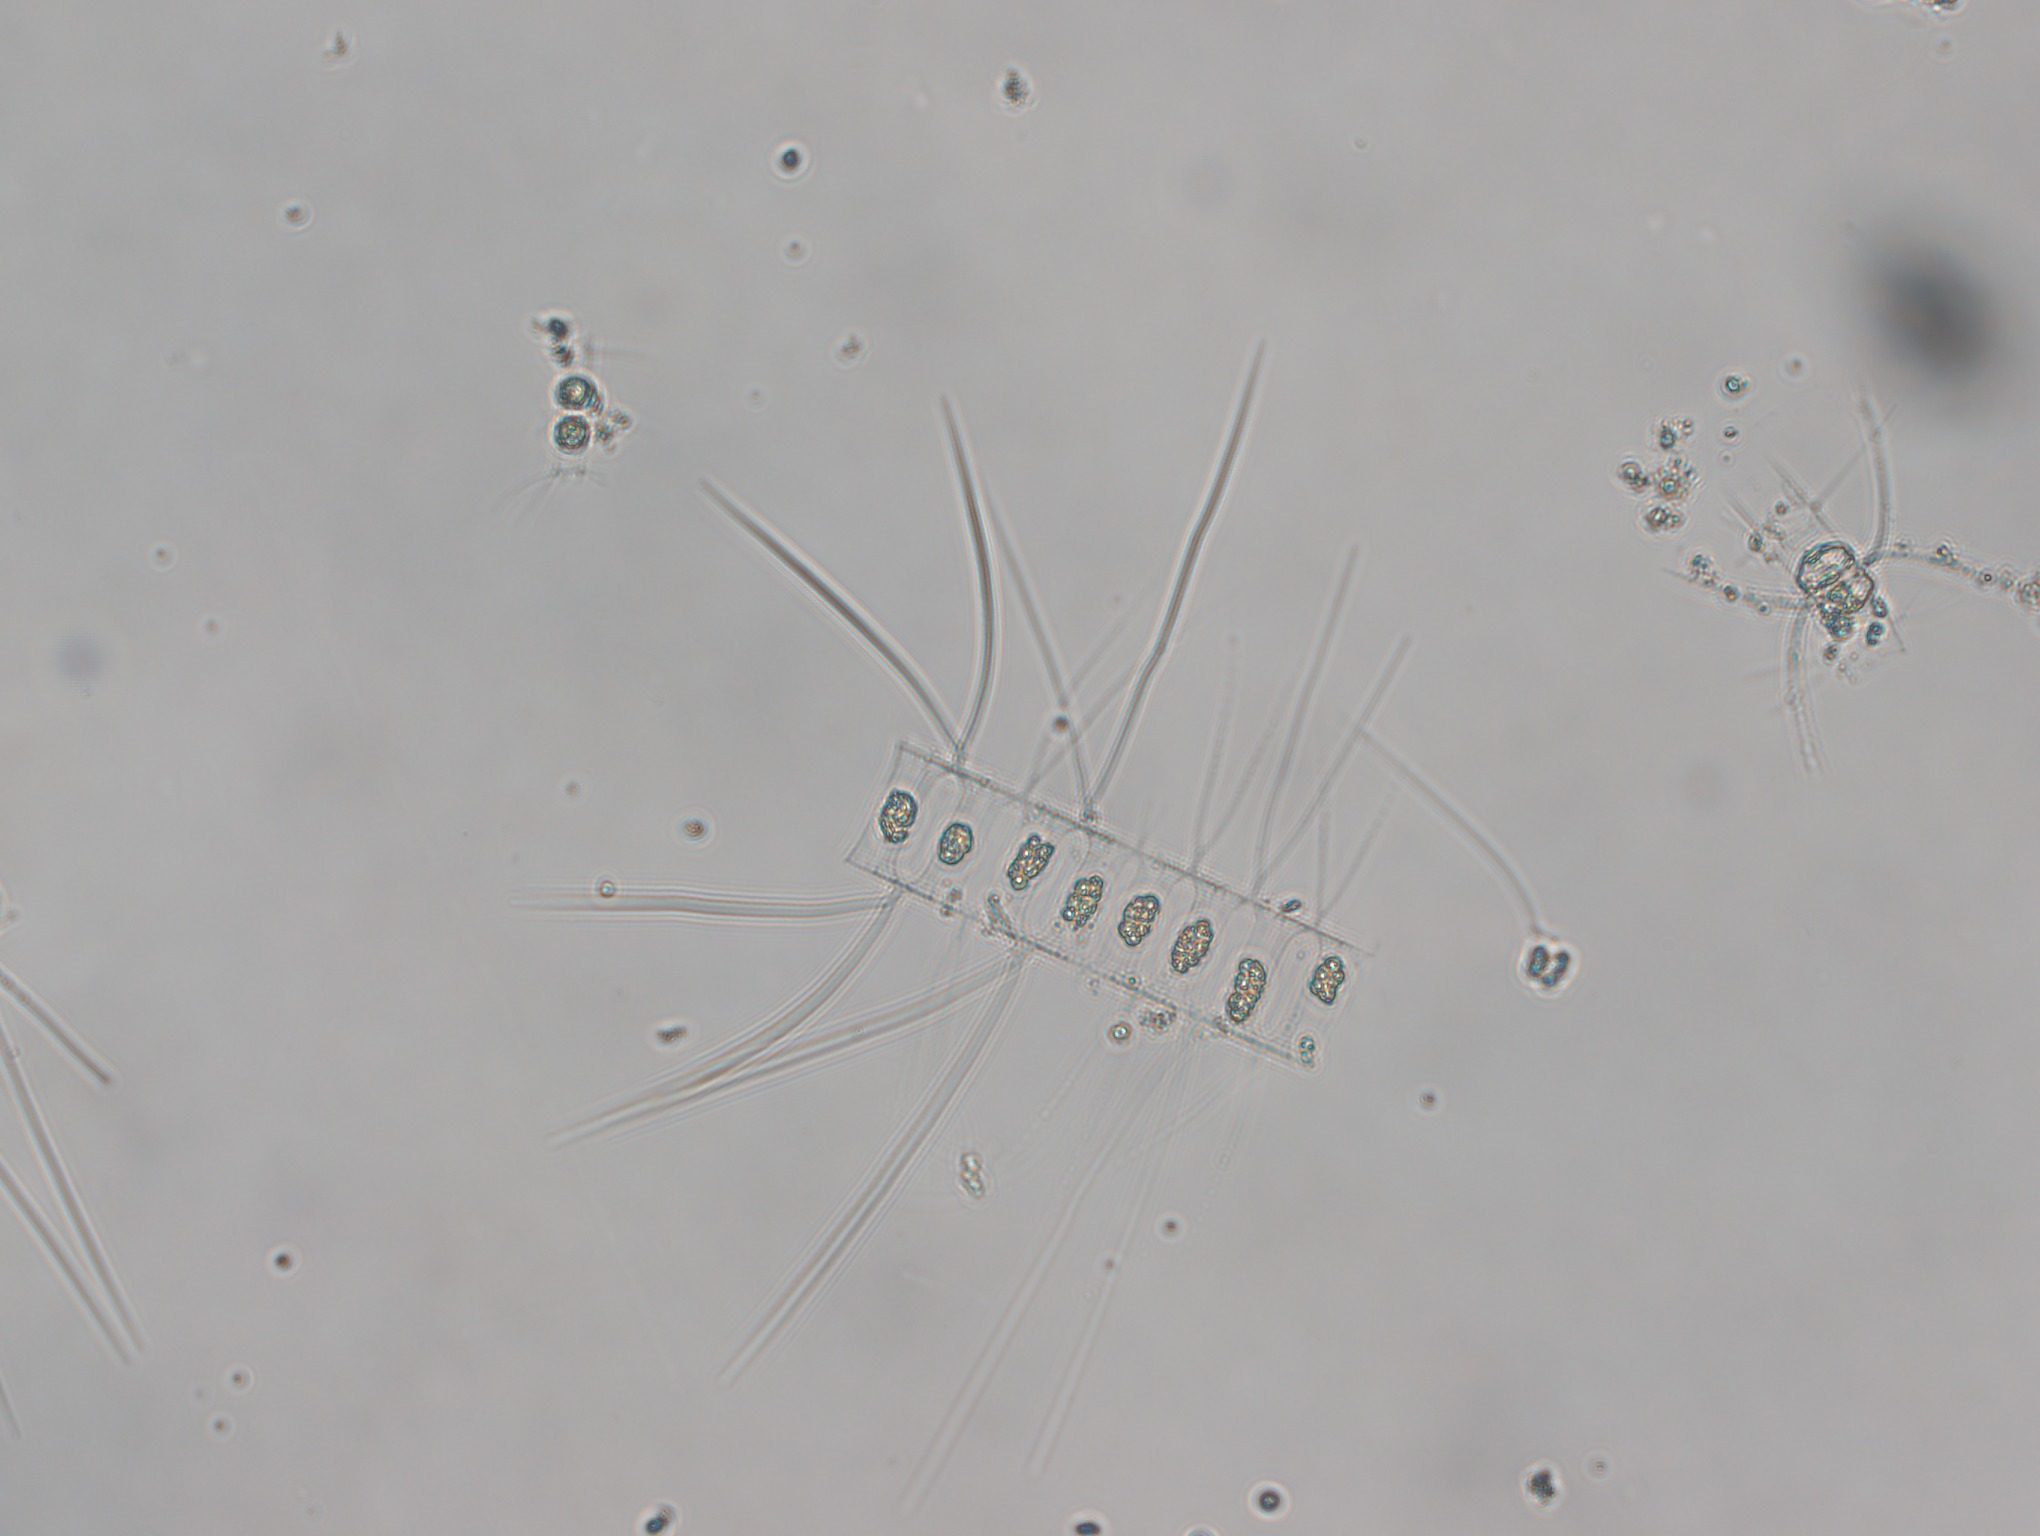chaetoceros: (631, 349, 1432, 1465), (1679, 408, 2014, 760)
